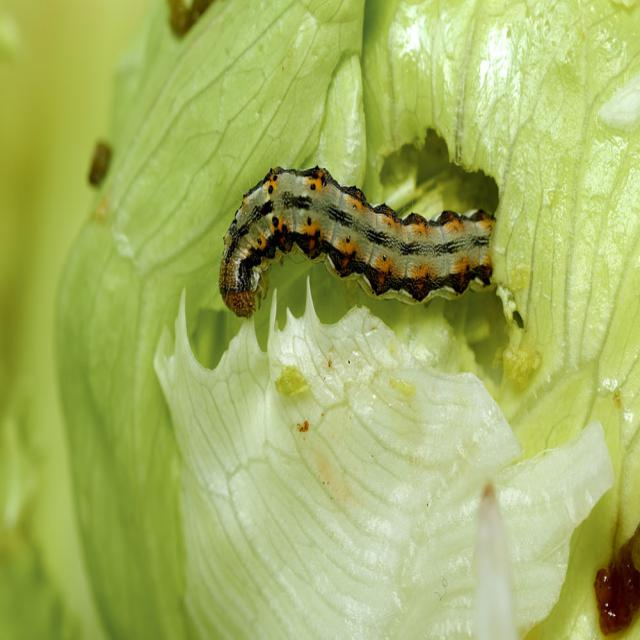Corn-earworm: (228, 155, 495, 343)
